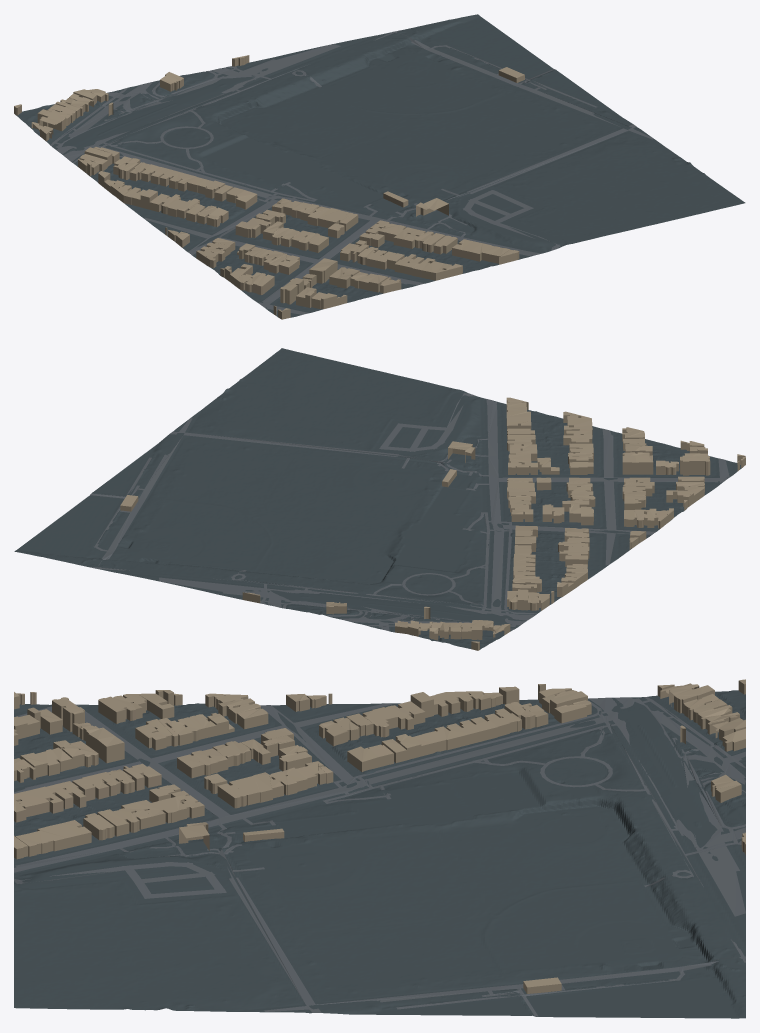
File: epsg26910-1432-10870.lod0.glb
The picture shows the model from 3 angles, top to bottom: view 1: azimuth 30°, elevation 25°; view 2: azimuth 150°, elevation 25°; view 3: azimuth 270°, elevation 25°; orthographic projection. The views are drawn at different scales.
Parts seen in each view (by area): view 1: epsg26910-1432-10870-lod0; view 2: epsg26910-1432-10870-lod0; view 3: epsg26910-1432-10870-lod0.
Part boxes in pixels (x1=…): epsg26910-1432-10870-lod0: x1=14, y1=14, x2=745, y2=319; epsg26910-1432-10870-lod0: x1=14, y1=348, x2=745, y2=650; epsg26910-1432-10870-lod0: x1=14, y1=679, x2=745, y2=1018.
Size of the model in its own units: 384 by 18.62 by 384.
